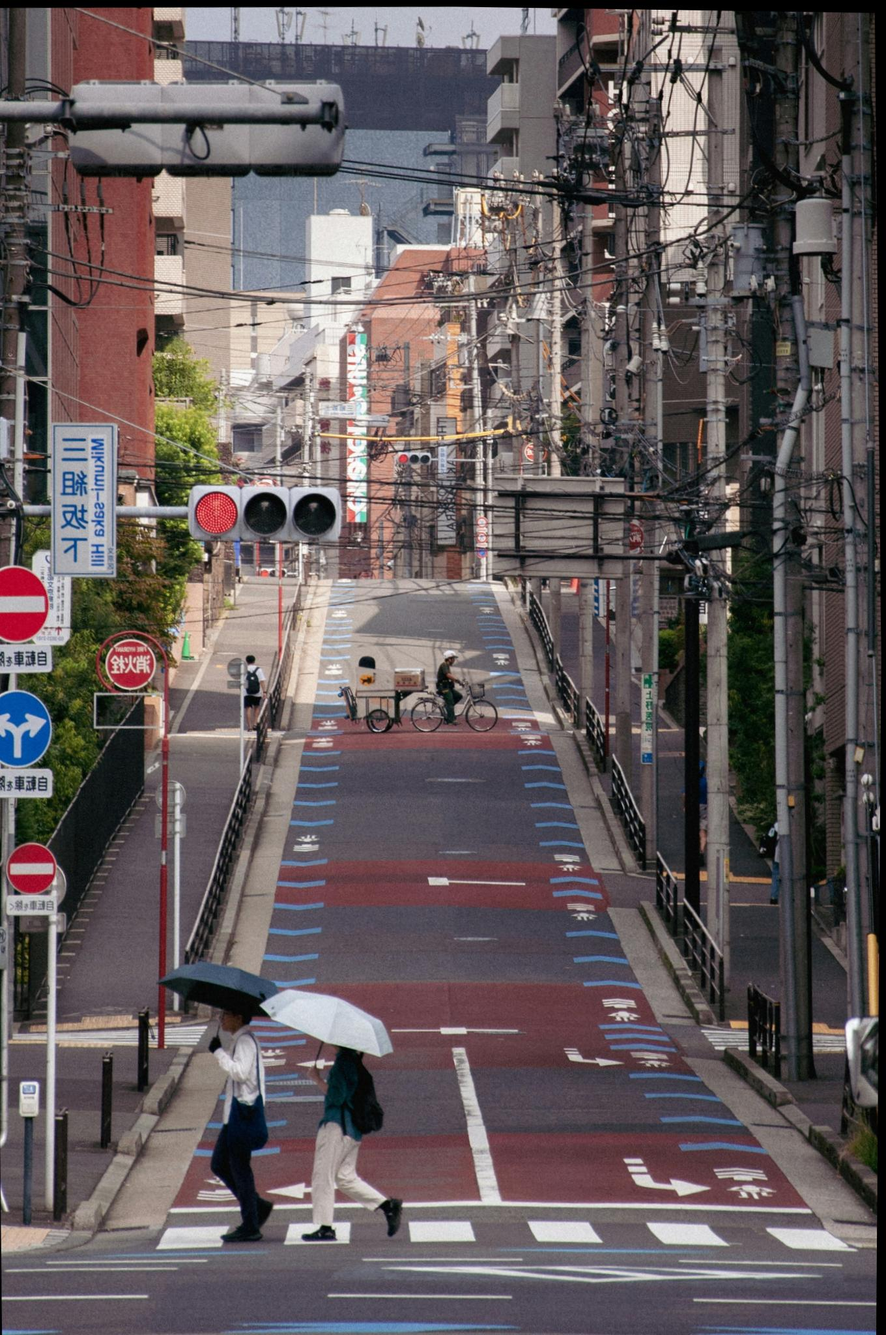barrier: (0, 561, 50, 651), (0, 841, 58, 898)
